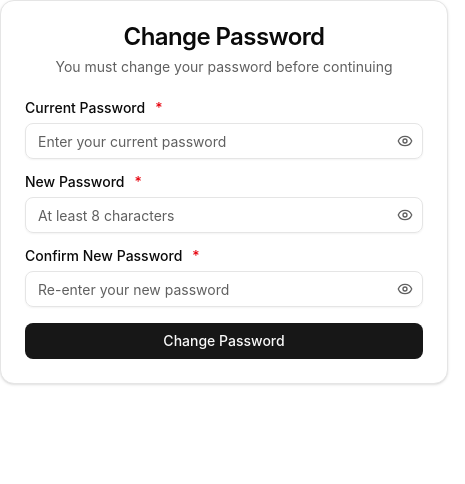
Scenario: ChangePassword › shows error alert on failed form submission
This screenshot has width=465, height=484.
In the password field labelled "Current Password *": (224, 141) x1=25 y1=123 x2=423 y2=159, type "OldPass123"
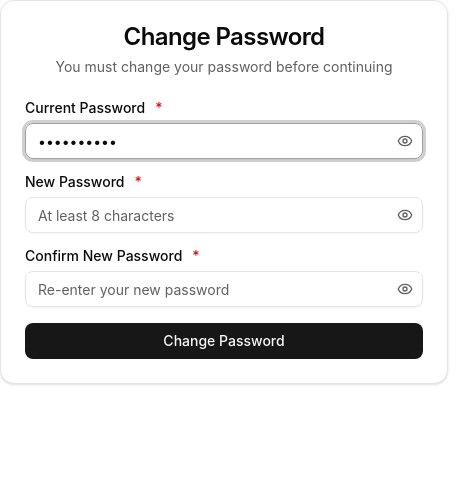
In the password field labelled "New Password *": (224, 215) x1=25 y1=197 x2=423 y2=233, type "NewPass456"
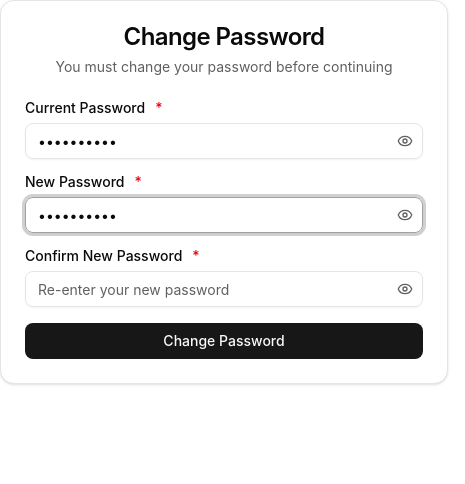
In the password field labelled "Confirm New Password *": (224, 289) x1=25 y1=271 x2=423 y2=307, type "NewPass456"
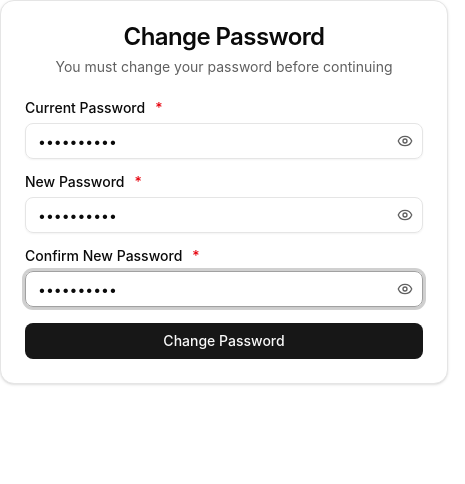
Click the button "Change Password": (224, 341) x1=25 y1=323 x2=423 y2=359
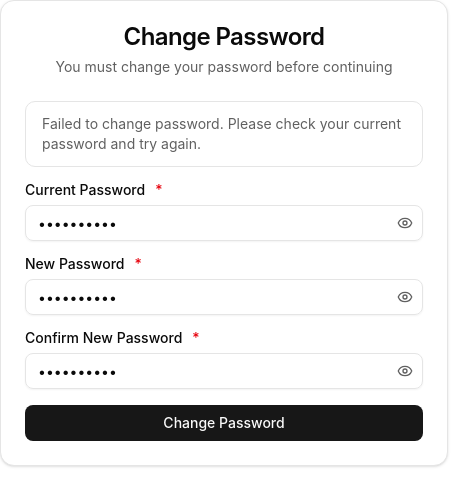
Check: the text "Failed to change password" is shown, box x1=42 y1=115 x2=401 y2=152
